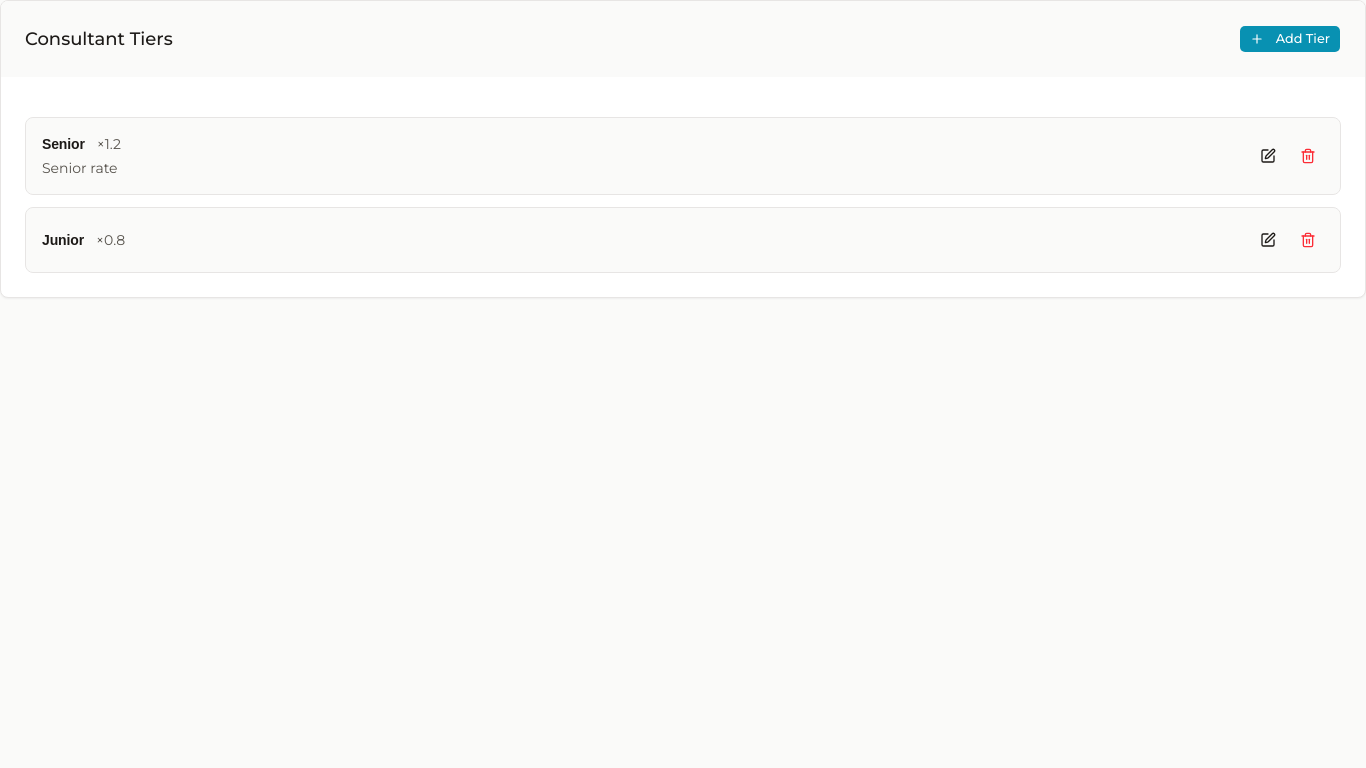
TiersSettingsTab › clicking delete opens the confirm dialog
Click the button named "delete senior".
click(1308, 156)  # box [1292, 140, 1324, 172]
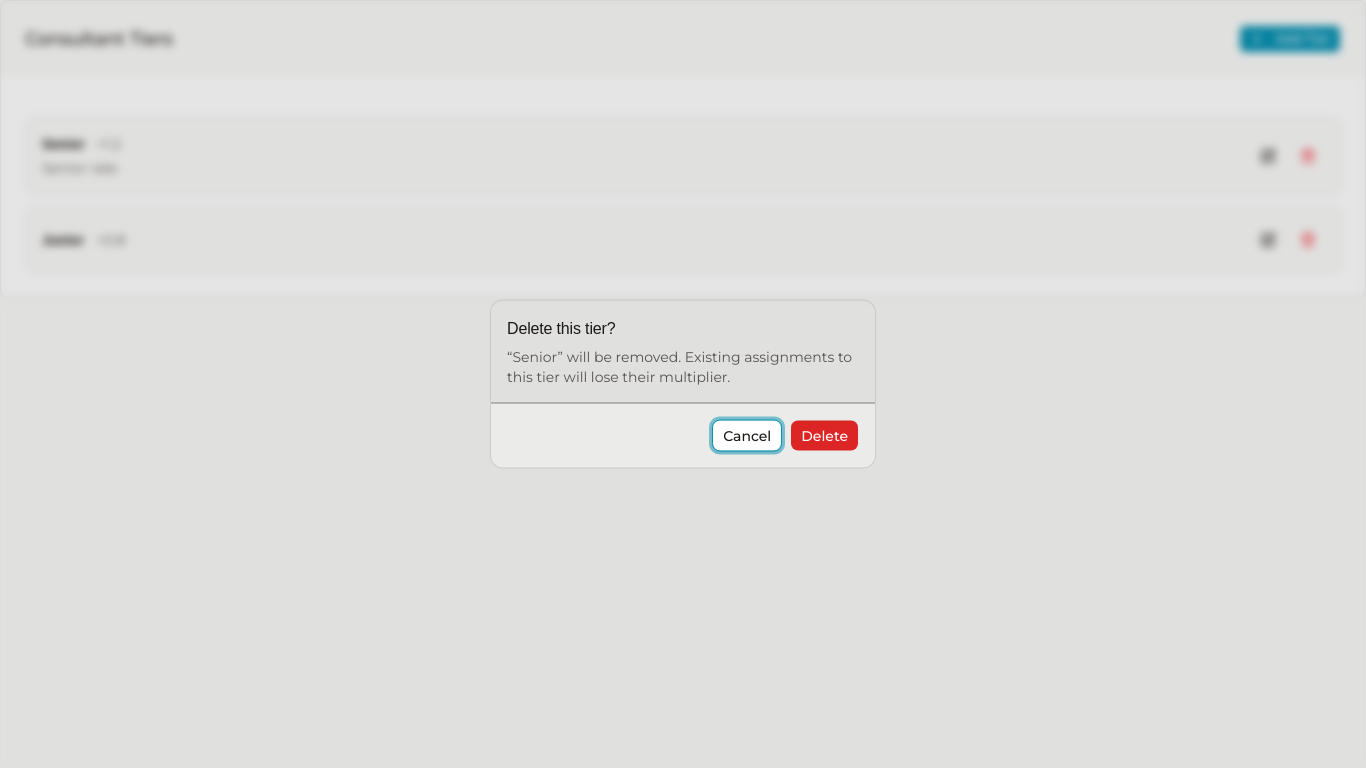
expect the heading "Delete this tier?" is shown: met, box [507, 316, 616, 340]
